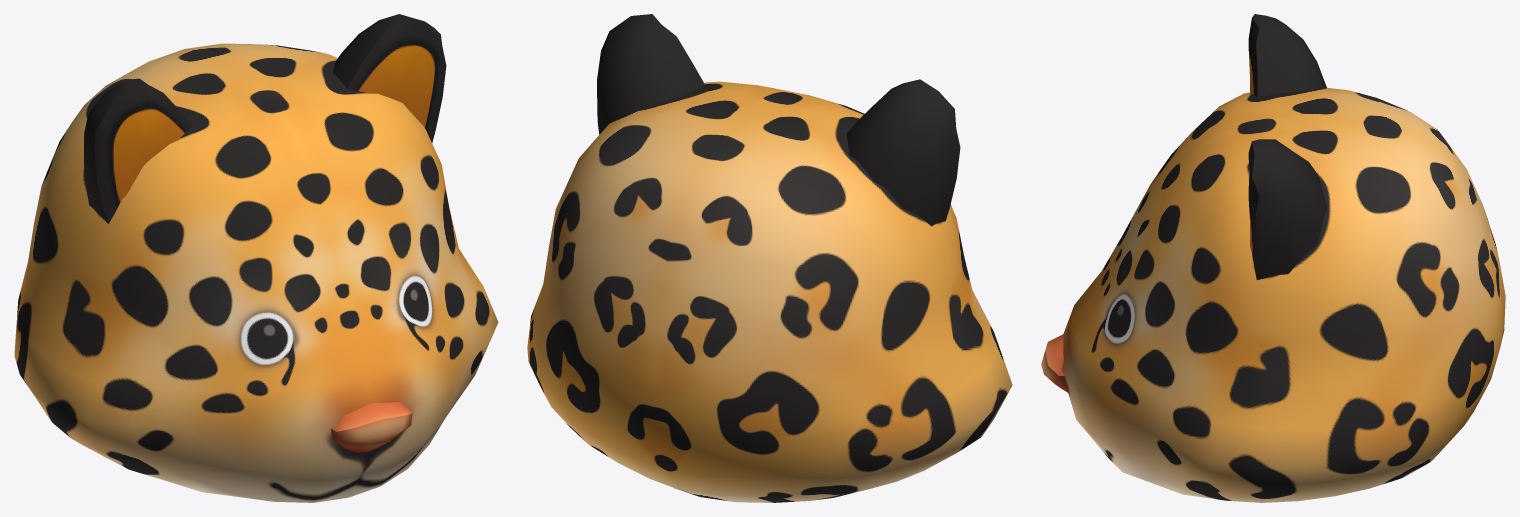
The model's file is CRT0110017.FBX.
3 renders of one model, left to right at view 1: azimuth 30°, elevation 25°; view 2: azimuth 150°, elevation 25°; view 3: azimuth 270°, elevation 25°, orthographic. The views are drawn at different scales.
Parts seen in each view (by area): view 1: smCRT0110017; view 2: smCRT0110017; view 3: smCRT0110017.
Boxes of the visible parts, x1,y1,x2,y2 form: smCRT0110017: [14, 14, 498, 502]; smCRT0110017: [527, 14, 1012, 502]; smCRT0110017: [1041, 14, 1505, 502].
Bounding box in the file's own units: 0.1669 × 0.1508 × 0.1648.
1 material, 1 textured.
